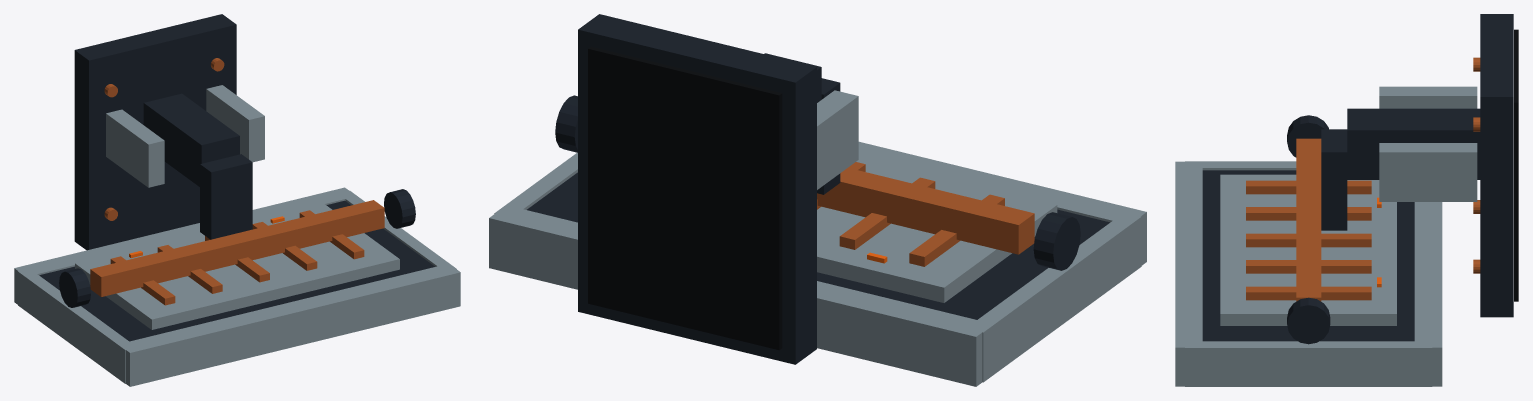
3 renders of one model, left to right at view 1: azimuth 30°, elevation 25°; view 2: azimuth 150°, elevation 25°; view 3: azimuth 270°, elevation 25°, orthographic. The views are drawn at different scales.
Visible parts, largest first — view 1: mount_plate, bezel_horizontal_top, panel_rear_shroud, hinge_bar, mast_center, bezel_vertical_left, panel_core, hinge_bridge, bezel_horizontal_bottom, mast_side_0, mast_side_1, hinge_collar_L (+7 smaller); view 2: mount_gasket, mount_plate, bezel_horizontal_bottom, panel_rear_shroud, bezel_vertical_left, hinge_bar, panel_core, bezel_horizontal_top, mast_side_0, hinge_collar_L, bezel_vertical_right, rear_cooling_rib_1 (+2 smaller); view 3: panel_rear_shroud, bezel_vertical_right, mount_plate, panel_core, mast_center, mast_side_1, bezel_horizontal_top, bezel_horizontal_bottom, hinge_bar, hinge_bridge, mast_side_0, hinge_collar_R (+8 smaller).
Part boxes in pixels (box(x1,y1,x2,y2)): mount_plate: box(74, 14, 236, 250); bezel_horizontal_top: box(118, 264, 460, 386); panel_rear_shroud: box(75, 203, 399, 329); hinge_bar: box(90, 200, 384, 296); mast_center: box(143, 93, 239, 186); bezel_vertical_left: box(18, 271, 128, 383); panel_core: box(39, 200, 434, 341); hinge_bridge: box(200, 154, 252, 239); bezel_horizontal_bottom: box(14, 187, 355, 304); mast_side_0: box(106, 109, 164, 187); mast_side_1: box(206, 85, 264, 162); hinge_collar_L: box(59, 268, 90, 307); mount_gasket: box(588, 46, 782, 350); mount_plate: box(578, 14, 816, 364); bezel_horizontal_bottom: box(489, 205, 993, 386); panel_rear_shroud: box(817, 156, 1057, 302); bezel_vertical_left: box(978, 216, 1141, 382); hinge_bar: box(817, 168, 1034, 254); panel_core: box(527, 172, 1109, 319); bezel_horizontal_top: box(858, 141, 1146, 265); mast_side_0: box(817, 90, 858, 189); hinge_collar_L: box(1033, 212, 1080, 270); bezel_vertical_right: box(494, 152, 577, 216); rear_cooling_rib_1: box(839, 177, 935, 249); panel_rear_shroud: box(1220, 174, 1396, 325); bezel_vertical_right: box(1185, 341, 1432, 386); mount_plate: box(1480, 14, 1513, 317); panel_core: box(1202, 170, 1414, 341); mast_center: box(1347, 108, 1480, 179); mast_side_1: box(1379, 143, 1477, 201); bezel_horizontal_top: box(1175, 161, 1202, 386); bezel_horizontal_bottom: box(1414, 202, 1442, 386); hinge_bar: box(1296, 138, 1321, 301); hinge_bridge: box(1321, 129, 1347, 230); mast_side_0: box(1379, 86, 1477, 108); hinge_collar_R: box(1287, 297, 1330, 344).
Bounding box in the file's own units: 1.14 × 0.685 × 0.875.
